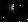person: (7, 5, 14, 14)
